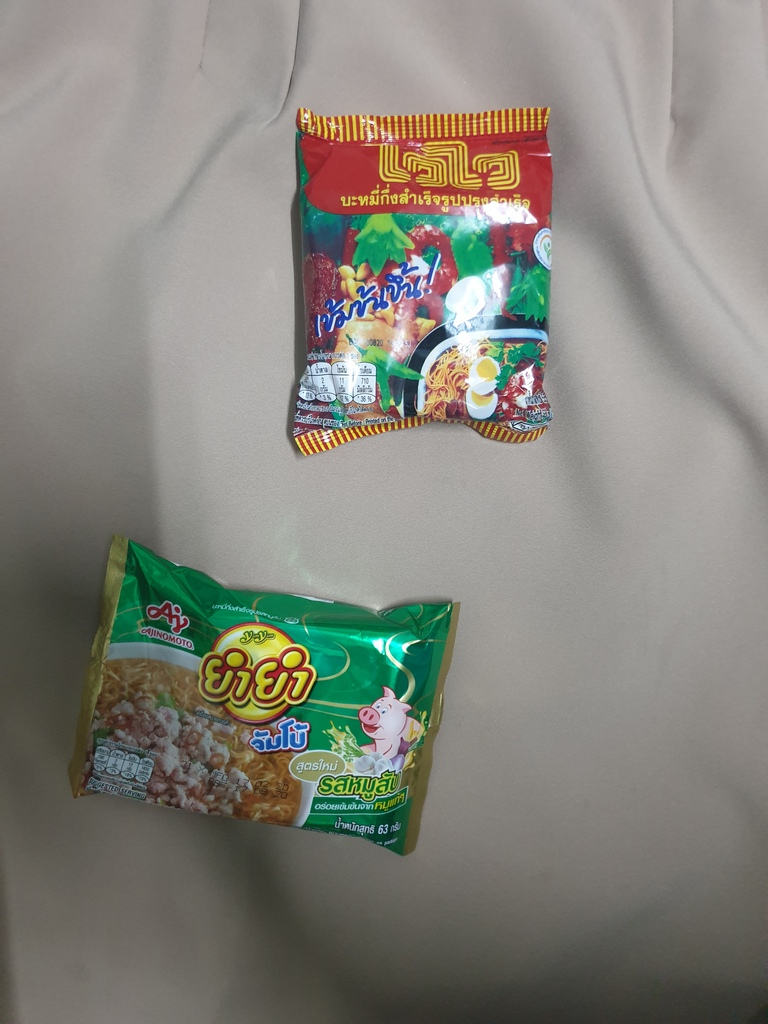waiwai: (292, 104, 556, 449)
yumyum: (76, 526, 464, 860)
